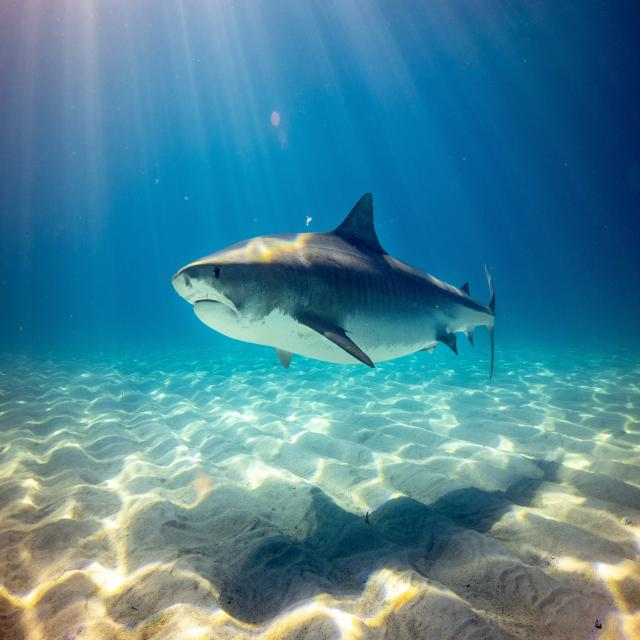gaviota: (171, 191, 496, 380), (172, 193, 496, 378)
